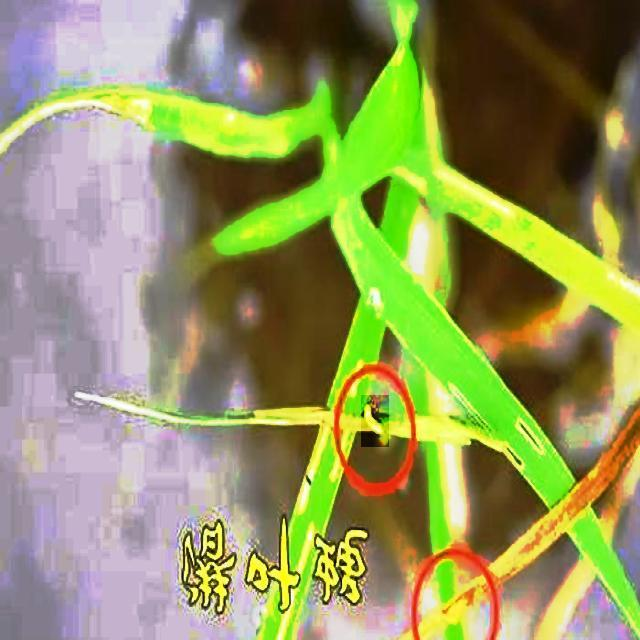whorl-maggot: (361, 395, 389, 447)
